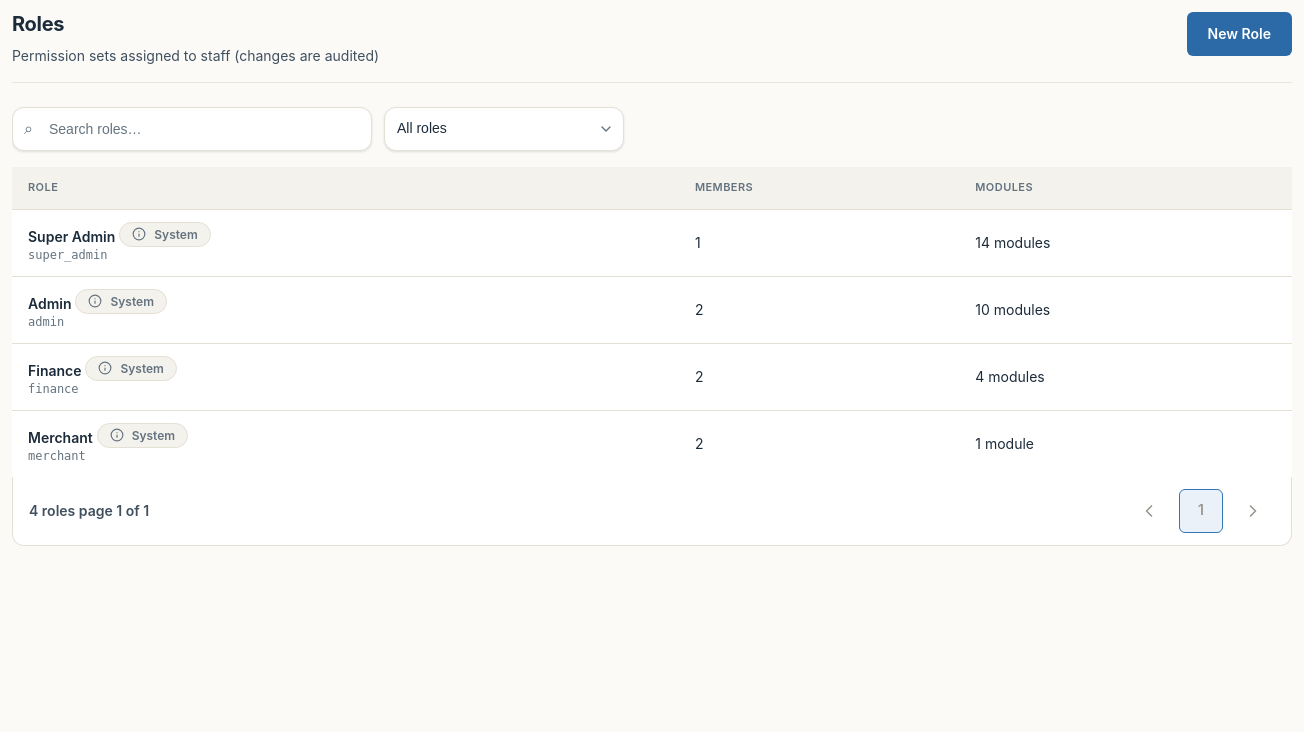
Test case: RolesPage › searches roles by name
Check: the text "Super Admin" is shown, box [28, 227, 115, 244]
Type "merch" into the search field labelled "Search roles".
click(192, 129); type("merch")  # box [12, 107, 372, 151]
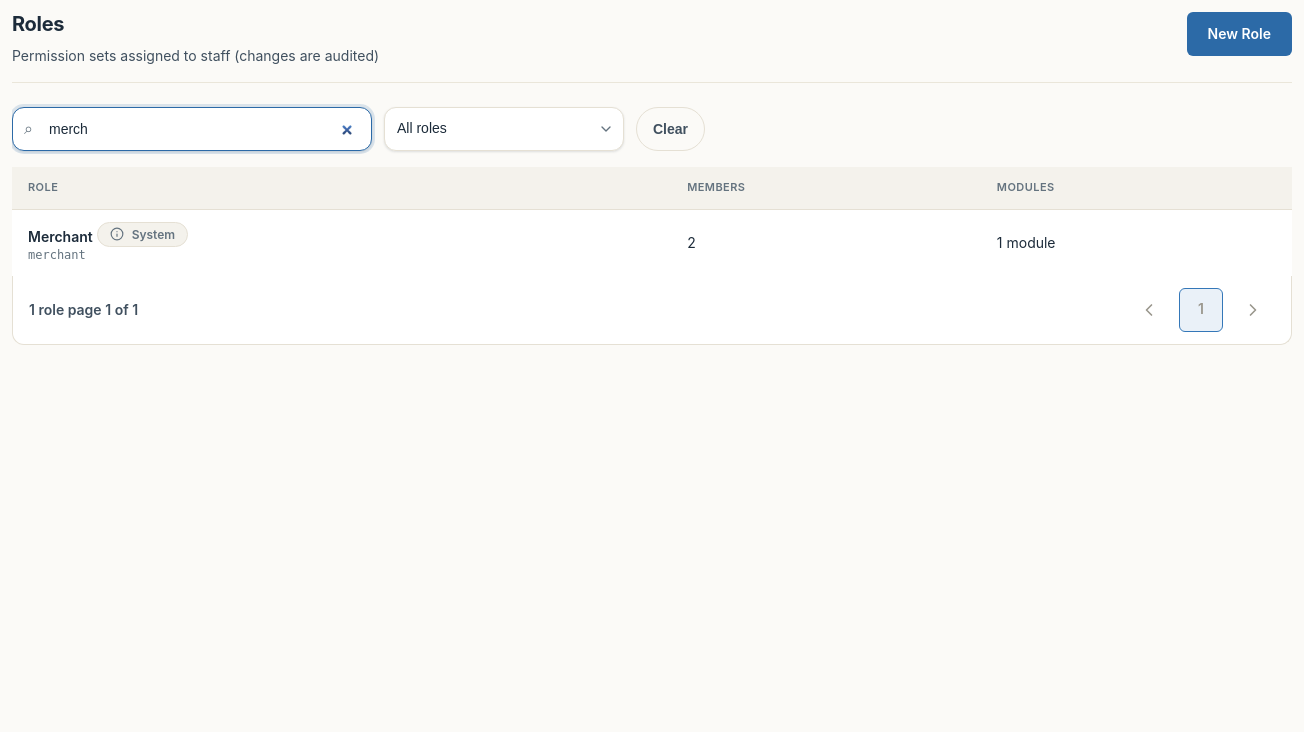
Check: the text "Merchant" is shown, box [28, 227, 93, 244]
Check: the text "Finance" is gone
